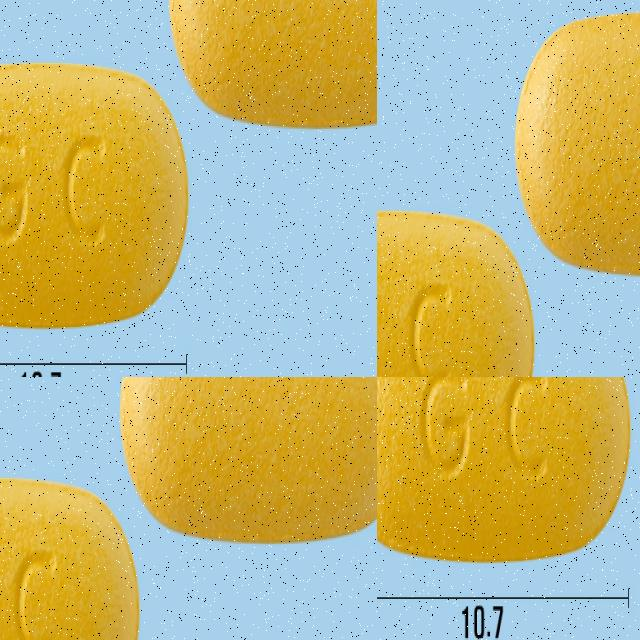Clarimicin: (377, 377, 631, 567)
Clratomin: (0, 71, 199, 330), (159, 0, 377, 116)
Crafroxin Tab: (502, 1, 640, 282), (377, 196, 545, 377)
